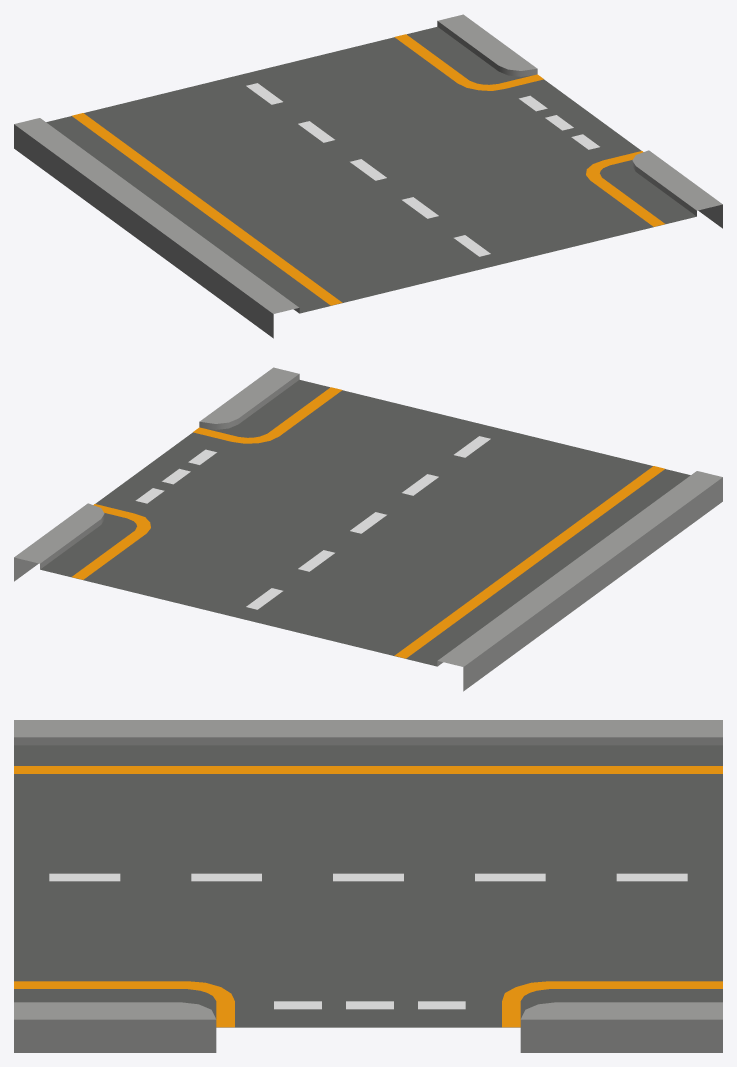
Rendered from Road_B_5.fbx.
3 renders of one model, top to bottom at view 1: azimuth 30°, elevation 25°; view 2: azimuth 150°, elevation 25°; view 3: azimuth 270°, elevation 25°, orthographic. The views are drawn at different scales.
Parts seen in each view (by area): view 1: Road_B_5; view 2: Road_B_5; view 3: Road_B_5.
Part boxes in pixels (left/top/right/bottom): Road_B_5: left=14, top=14, right=722, bottom=338; Road_B_5: left=14, top=367, right=722, bottom=691; Road_B_5: left=14, top=720, right=722, bottom=1052.
Bounding box in the file's own units: 800 × 41.48 × 800.
